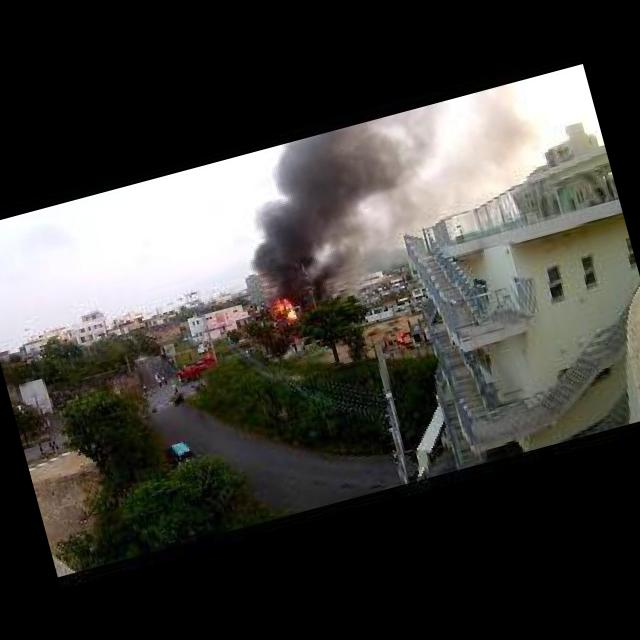Fire: (270, 298, 294, 322)
Smoke: (220, 78, 550, 300)
